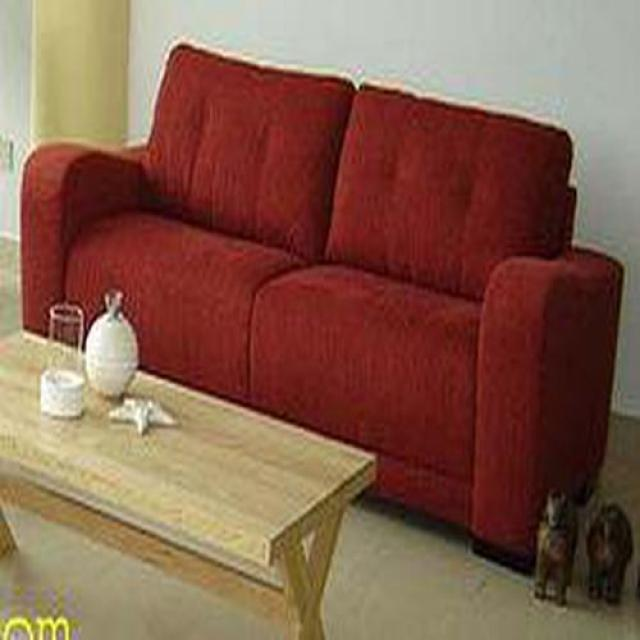sofa: (19, 41, 622, 575)
